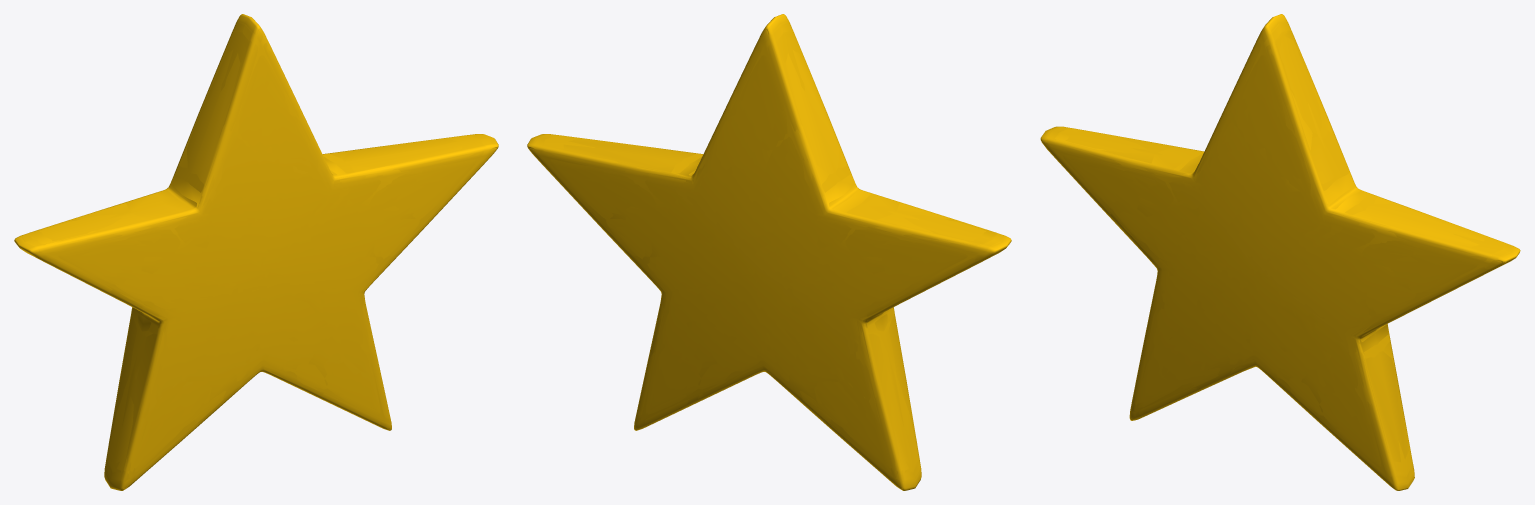
File: stars.glb
3 views of the same model, side by side, from view 1: azimuth 30°, elevation 25°; view 2: azimuth 150°, elevation 25°; view 3: azimuth 330°, elevation 25° (orthographic).
Parts seen in each view (by area): view 1: Star, Star_Gold_0.001, Star_Gold_0.002; view 2: Star, Star_Gold_0.001, Star_Gold_0.002; view 3: Star, Star_Gold_0.001, Star_Gold_0.002.
Part boxes in pixels (<box>): Star: <box>14,14,498,490</box>; Star_Gold_0.001: <box>27,31,492,483</box>; Star_Gold_0.002: <box>14,14,498,490</box>; Star: <box>527,14,1011,490</box>; Star_Gold_0.001: <box>533,23,998,483</box>; Star_Gold_0.002: <box>527,14,1011,490</box>; Star: <box>1040,14,1520,490</box>; Star_Gold_0.001: <box>1047,30,1513,485</box>; Star_Gold_0.002: <box>1040,14,1520,490</box>.
Size of the model in its own units: 0.7148 by 0.6359 by 0.0921.
